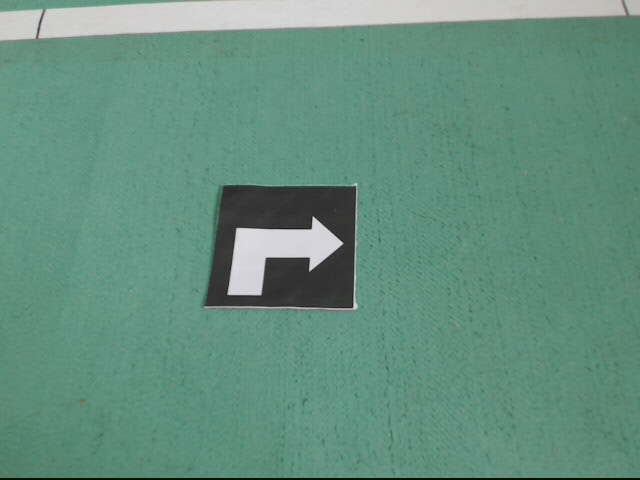right: (207, 184, 354, 310)
